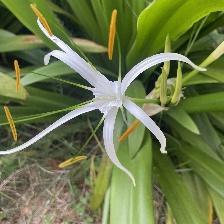spider lily: (2, 5, 213, 191)
